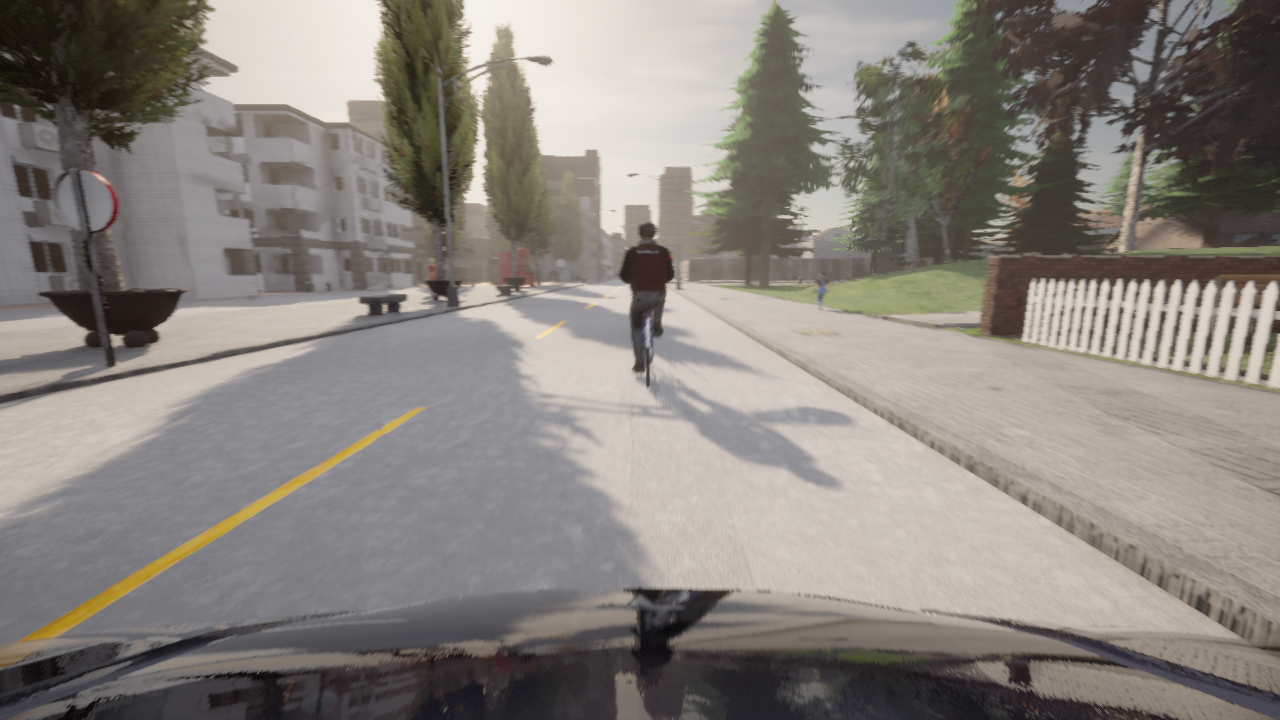cyclist: (0, 588, 1279, 719), (634, 309, 660, 386), (649, 308, 652, 311)
pedestrian: (813, 271, 828, 310), (425, 258, 435, 296)
